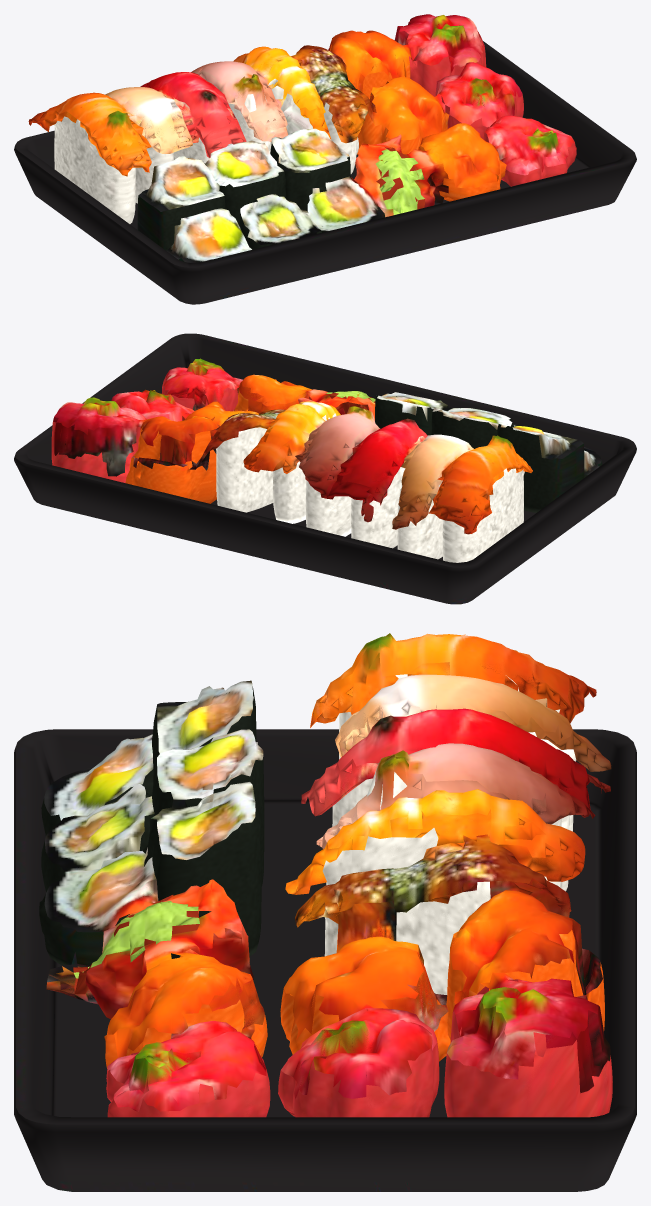
The model's file is sushi_platter_lite.glb.
3 renders of one model, top to bottom at view 1: azimuth 30°, elevation 25°; view 2: azimuth 150°, elevation 25°; view 3: azimuth 270°, elevation 25°, orthographic. The views are drawn at different scales.
Parts seen in each view (by area): view 1: ing_base, ing_hosomaki, ing_atomic, ing_geisha, ing_syakeNigiri, ing_maguroNigiri, ing_unagiNigiri, ing_hamachiNigiri, ing_hotateNigiri, ing_ebiNigiri; view 2: ing_base, ing_atomic, ing_hosomaki, ing_geisha, ing_syakeNigiri, ing_maguroNigiri, ing_hamachiNigiri, ing_hotateNigiri, ing_ebiNigiri, ing_unagiNigiri; view 3: ing_base, ing_atomic, ing_hosomaki, ing_geisha, ing_unagiNigiri, ing_ebiNigiri, ing_maguroNigiri, ing_syakeNigiri, ing_hamachiNigiri, ing_hotateNigiri.
Part boxes in pixels (box(x1,y1,x2,y2)): ing_base: box(14, 41, 636, 304); ing_hosomaki: box(137, 128, 384, 262); ing_atomic: box(394, 14, 576, 186); ing_geisha: box(328, 30, 506, 201); ing_syakeNigiri: box(28, 92, 151, 223); ing_maguroNigiri: box(140, 72, 246, 163); ing_unagiNigiri: box(291, 45, 367, 173); ing_hamachiNigiri: box(191, 61, 288, 153); ing_hotateNigiri: box(105, 87, 192, 203); ing_ebiNigiri: box(233, 46, 331, 145); ing_base: box(14, 333, 636, 604); ing_atomic: box(51, 358, 242, 482); ing_hosomaki: box(375, 392, 602, 512); ing_geisha: box(125, 374, 308, 503); ing_syakeNigiri: box(429, 435, 532, 562); ing_maguroNigiri: box(327, 418, 427, 548); ing_hamachiNigiri: box(295, 406, 379, 536); ing_hotateNigiri: box(392, 434, 473, 559); ing_ebiNigiri: box(243, 401, 340, 523); ing_unagiNigiri: box(189, 409, 285, 512); ing_base: box(14, 729, 636, 1191); ing_atomic: box(106, 972, 612, 1117); ing_hosomaki: box(39, 680, 264, 965); ing_geisha: box(104, 890, 604, 1068); ing_unagiNigiri: box(295, 834, 571, 994); ing_ebiNigiri: box(285, 789, 585, 894); ing_maguroNigiri: box(301, 706, 610, 891); ing_syakeNigiri: box(310, 633, 596, 759); ing_hamachiNigiri: box(316, 743, 595, 888); ing_hotateNigiri: box(335, 674, 611, 831).
Size of the model in its own units: 0.26 by 0.063 by 0.1725.
Materials: 1 (1 with a texture image).
